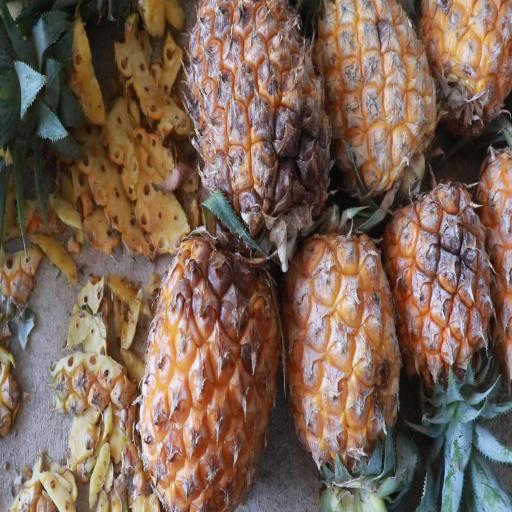Pineapple - v8 v1: (135, 221, 284, 512), (187, 0, 336, 245), (282, 216, 404, 474), (383, 169, 496, 395), (318, 0, 438, 205), (415, 0, 512, 148)
